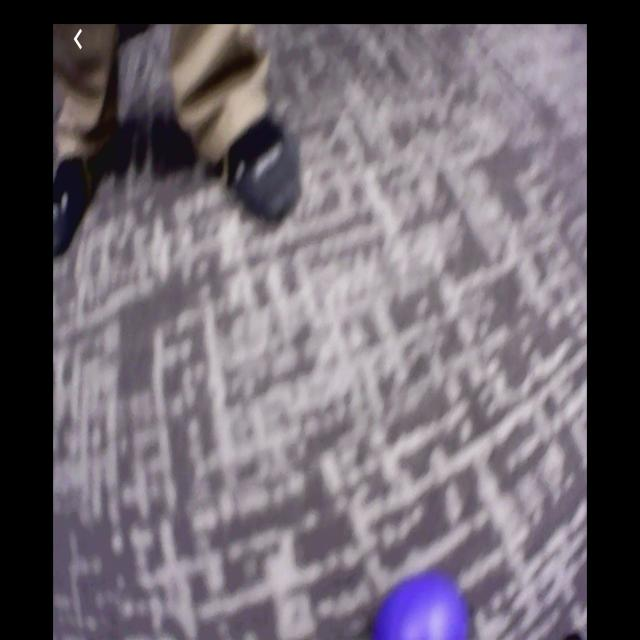ball: (370, 572, 473, 640)
